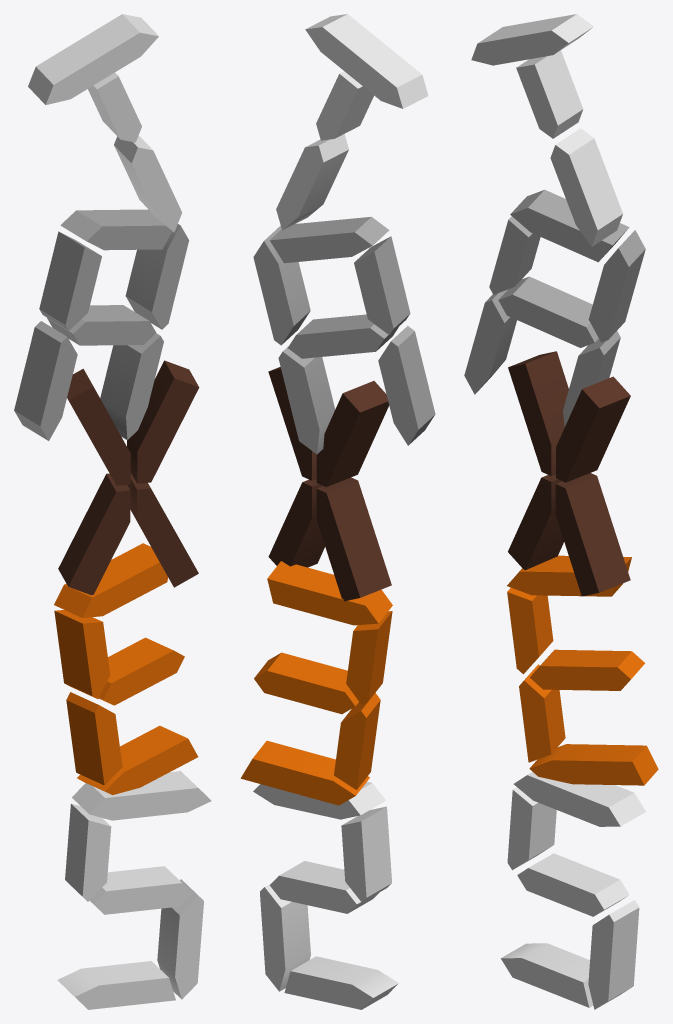
File: SM_TallTrippyTreeB5.fbx
3 renders of one model, left to right at view 1: azimuth 30°, elevation 25°; view 2: azimuth 150°, elevation 25°; view 3: azimuth 330°, elevation 25°, orthographic.
Parts seen in each view (by area): view 1: letter3, letter1, letter2, letter, letter4; view 2: letter3, letter2, letter1, letter, letter4; view 3: letter1, letter, letter3, letter2, letter4.
Part boxes in pixels (left/top/right/bottom): letter3: left=14, top=209, right=189, bottom=440; letter1: left=57, top=771, right=211, bottom=1009; letter2: left=54, top=543, right=198, bottom=795; letter: left=58, top=360, right=199, bottom=594; letter4: left=28, top=14, right=182, bottom=232; letter3: left=253, top=216, right=435, bottom=454; letter2: left=240, top=561, right=392, bottom=805; letter1: left=253, top=782, right=398, bottom=1009; letter: left=268, top=367, right=391, bottom=601; letter4: left=276, top=14, right=428, bottom=230; letter1: left=501, top=772, right=645, bottom=1009; letter: left=508, top=351, right=630, bottom=596; letter3: left=464, top=189, right=645, bottom=426; letter2: left=507, top=555, right=658, bottom=785; letter4: left=471, top=14, right=622, bottom=246.
Bounding box in the file's own units: 333 × 1785 × 147.
